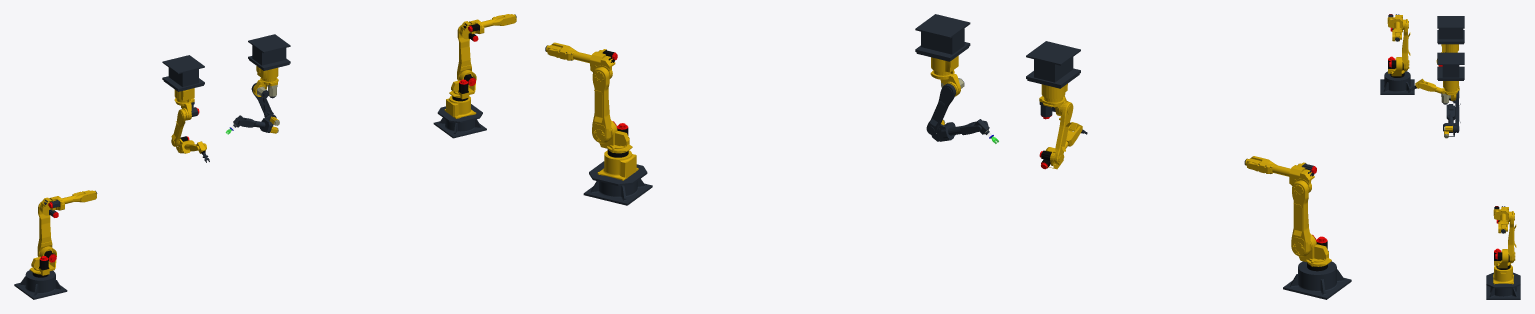
File: 機械手全部_UV.FBX
The picture shows the model from 3 angles, left to right: view 1: azimuth 30°, elevation 25°; view 2: azimuth 150°, elevation 25°; view 3: azimuth 270°, elevation 25°; orthographic projection. The views are drawn at different scales.
Parts seen in each view (by area): view 1: 立式機械手B_底座, 吊掛式機械手A_底座001, 吊掛式機械手A_底座, 立式機械手A_底座, 立式機械手A_旋轉座, 立式機械手B_旋轉座, 立式機械手A_Arm1, 立式機械手B_Arm1, 吊掛式機械手A_旋轉座001, 立式機械手B_Arm2, 立式機械手A_Arm2; view 2: 立式機械手B_底座, 吊掛式機械手A_底座001, 吊掛式機械手A_底座, 立式機械手A_底座, 立式機械手B_Arm1, 立式機械手A_Arm1, 立式機械手B_旋轉座, 立式機械手A_旋轉座, 吊掛式機械手A_Arm007, 吊掛式機械手A_Arm1, 立式機械手A_Arm2; view 3: 立式機械手B_底座, 吊掛式機械手A_底座, 吊掛式機械手A_底座001, 立式機械手A_底座, 立式機械手B_Arm1, 立式機械手A_Arm1, 立式機械手A_旋轉座, 立式機械手B_旋轉座, 立式機械手B_Arm2, 立式機械手A_Arm2, 吊掛式機械手A_旋轉座001, 吊掛式機械手A_Arm007 (+5 smaller).
Boxes of the visible parts, left/top/right/bottom form: 立式機械手B_底座: left=433, top=95, right=486, bottom=138; 吊掛式機械手A_底座001: left=248, top=34, right=290, bottom=80; 吊掛式機械手A_底座: left=162, top=55, right=204, bottom=102; 立式機械手A_底座: left=14, top=270, right=67, bottom=299; 立式機械手A_旋轉座: left=29, top=246, right=56, bottom=277; 立式機械手B_旋轉座: left=449, top=70, right=476, bottom=101; 立式機械手A_Arm1: left=37, top=201, right=52, bottom=256; 立式機械手B_Arm1: left=457, top=25, right=471, bottom=80; 吊掛式機械手A_旋轉座001: left=253, top=77, right=278, bottom=98; 立式機械手B_Arm2: left=459, top=19, right=484, bottom=41; 立式機械手A_Arm2: left=39, top=196, right=64, bottom=217; 立式機械手B_底座: left=583, top=150, right=652, bottom=205; 吊掛式機械手A_底座001: left=915, top=14, right=970, bottom=73; 吊掛式機械手A_底座: left=1026, top=41, right=1080, bottom=98; 立式機械手A_底座: left=1283, top=261, right=1351, bottom=299; 立式機械手B_Arm1: left=592, top=67, right=611, bottom=143; 立式機械手A_Arm1: left=1291, top=181, right=1310, bottom=256; 立式機械手B_旋轉座: left=599, top=120, right=632, bottom=157; 立式機械手A_旋轉座: left=1299, top=234, right=1331, bottom=271; 吊掛式機械手A_Arm007: left=926, top=83, right=955, bottom=135; 吊掛式機械手A_Arm1: left=1053, top=102, right=1073, bottom=164; 立式機械手A_Arm2: left=1289, top=162, right=1316, bottom=192; 立式機械手B_底座: left=1486, top=265, right=1520, bottom=299; 吊掛式機械手A_底座: left=1437, top=16, right=1464, bottom=52; 吊掛式機械手A_底座001: left=1437, top=52, right=1464, bottom=89; 立式機械手A_底座: left=1380, top=71, right=1414, bottom=94; 立式機械手B_Arm1: left=1508, top=211, right=1516, bottom=263; 立式機械手A_Arm1: left=1402, top=19, right=1410, bottom=71; 立式機械手A_旋轉座: left=1388, top=56, right=1404, bottom=77; 立式機械手B_旋轉座: left=1494, top=248, right=1510, bottom=269; 立式機械手B_Arm2: left=1493, top=206, right=1512, bottom=224; 立式機械手A_Arm2: left=1387, top=14, right=1406, bottom=32; 吊掛式機械手A_旋轉座001: left=1441, top=88, right=1458, bottom=104; 吊掛式機械手A_Arm007: left=1453, top=91, right=1460, bottom=132.
Bounding box in the file's own units: 984 × 272 × 247.
